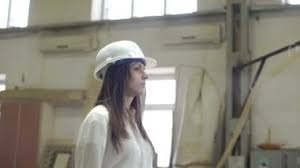helmet: (94, 40, 152, 75)
person with partial safety: (86, 40, 157, 165)
